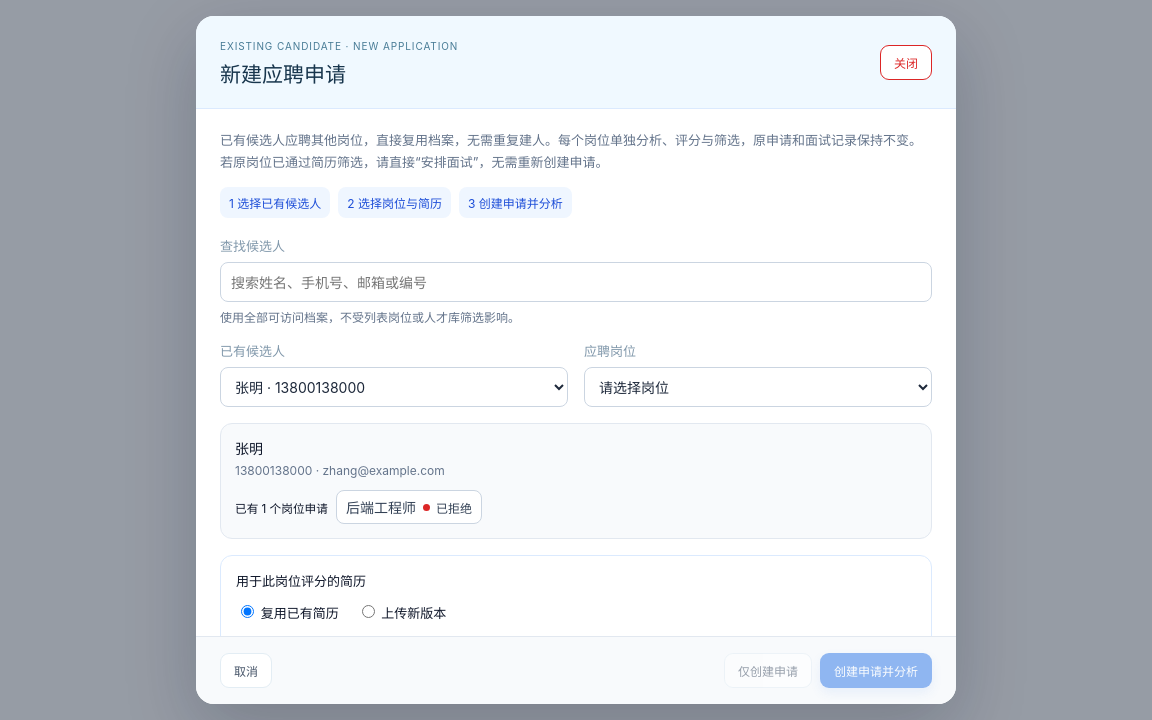
Test case: existing candidate application workflow › rechecks duplicate applications on the server before creating
Select "架构师" in the dropdown with id "application-job" at (758, 387), box [584,367,932,407]
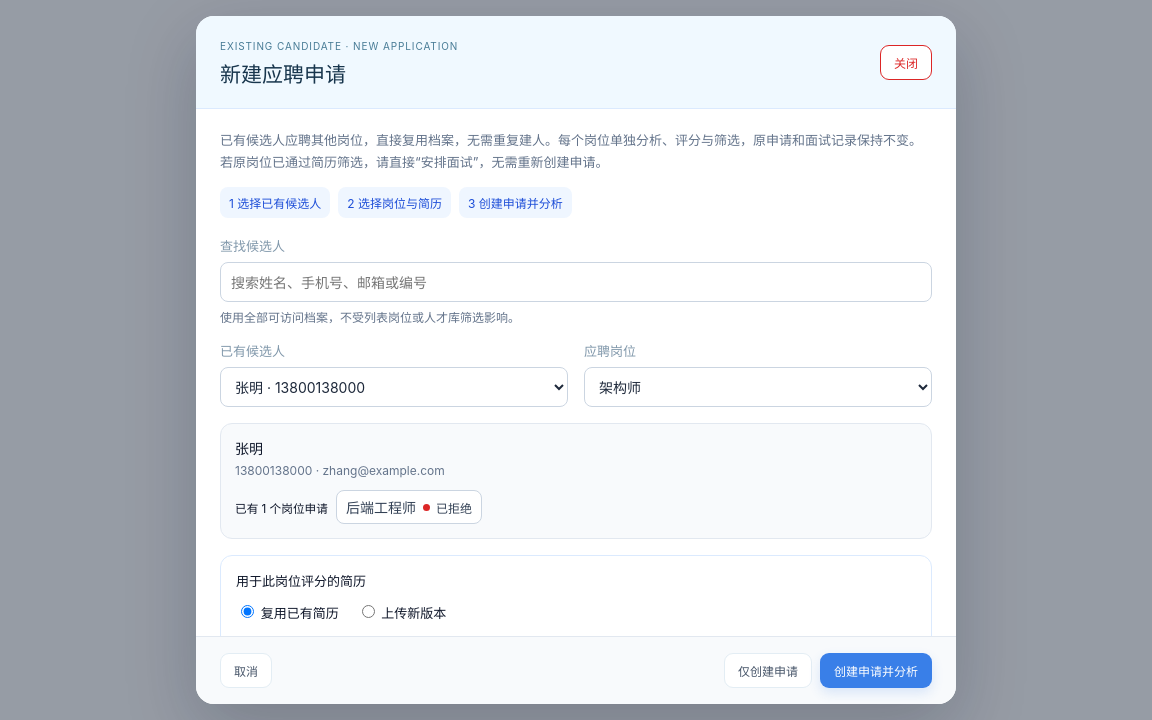
Check: the button "创建申请并分析" is enabled
Click the button "创建申请并分析" at (876, 670), box [820,653,932,688]
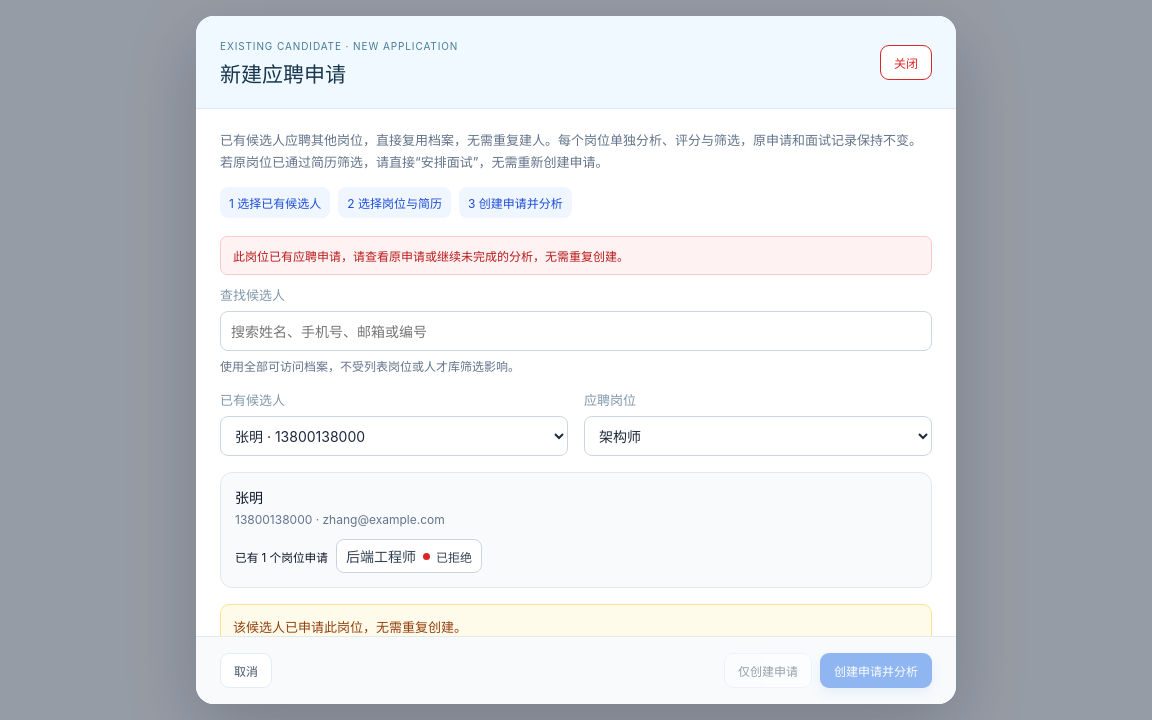
Check: the message "此岗位已有应聘申请，请查看原申请或继续未完成的分析，无需重复创建。" is shown, box [220,236,932,275]
